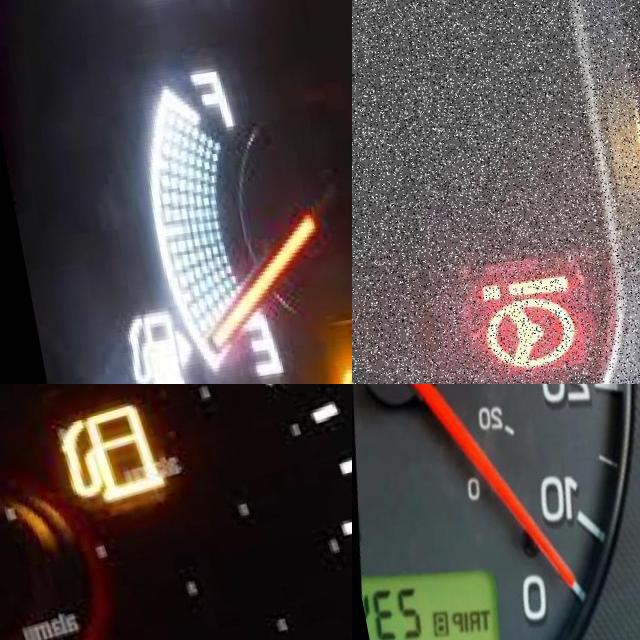Electronic Power Steering: (421, 240, 584, 384)
